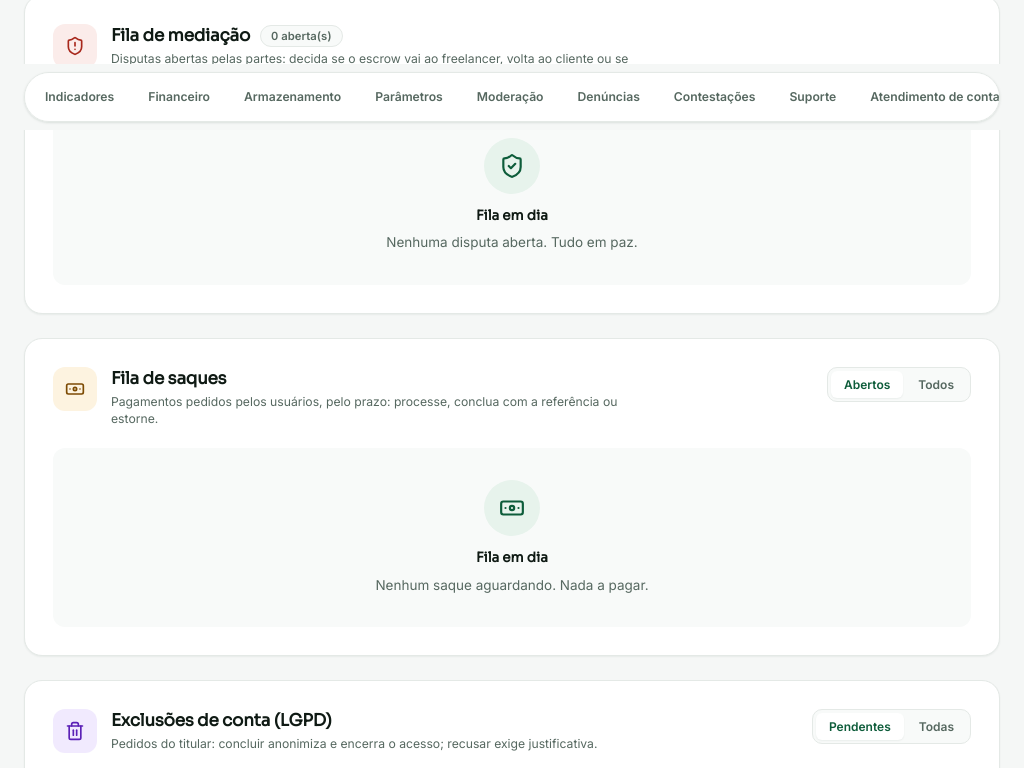
Scenario: AdminView: números e estados das filas › com as filas vazias, cada uma diz que está vazia, sem tabela
The image size is (1024, 768).
(page scrolled)
Check: the text "Nenhuma disputa aberta. Tudo em paz." is shown, box [386,233,638,253]
Check: the text "Nenhum saque aguardando. Nada a pagar." is shown, box [375,576,648,595]
Click the tab "Todos" at (936, 384), box [905,371,967,398]
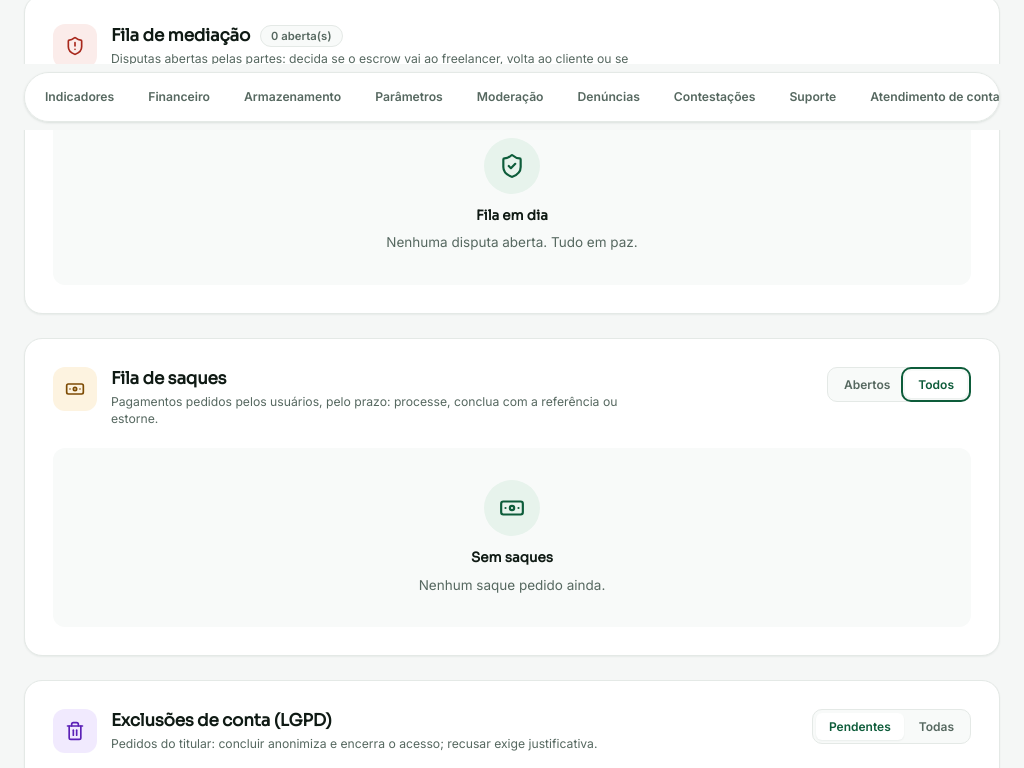
Check: the text "Nenhum saque pedido ainda." is shown, box [419,576,605,595]
Click the tab "Todas" at (936, 727), box [906,713,967,740]
(page scrolled)
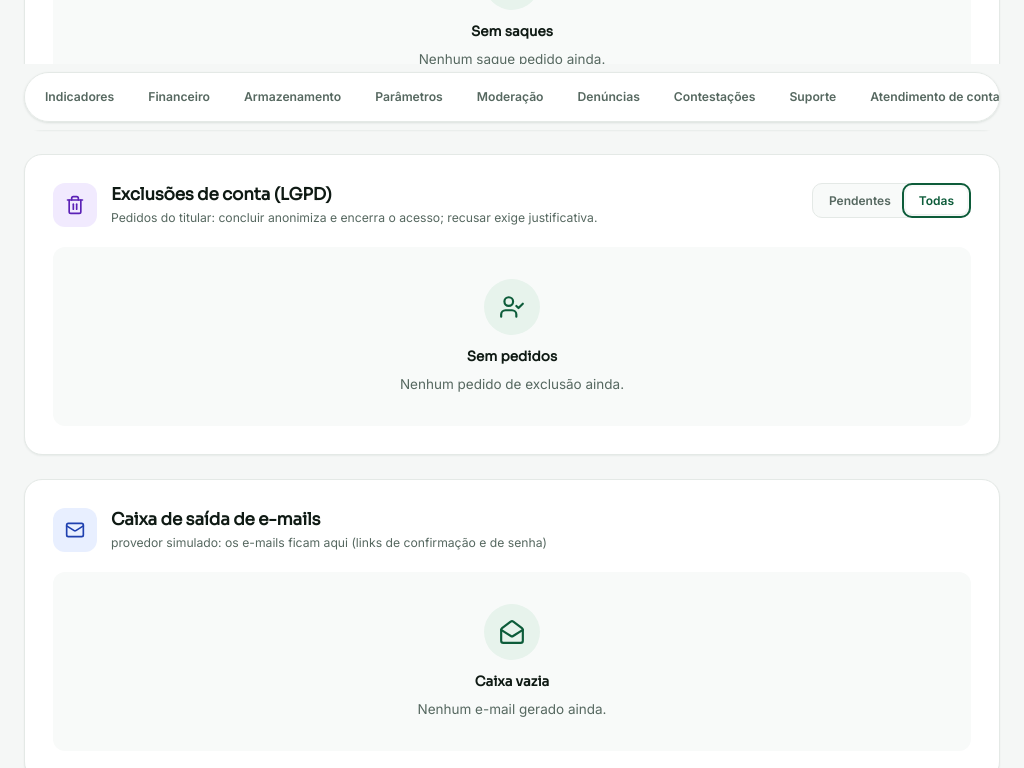
Check: the text "Nenhum pedido de exclusão ainda." is shown, box [400,375,624,394]
